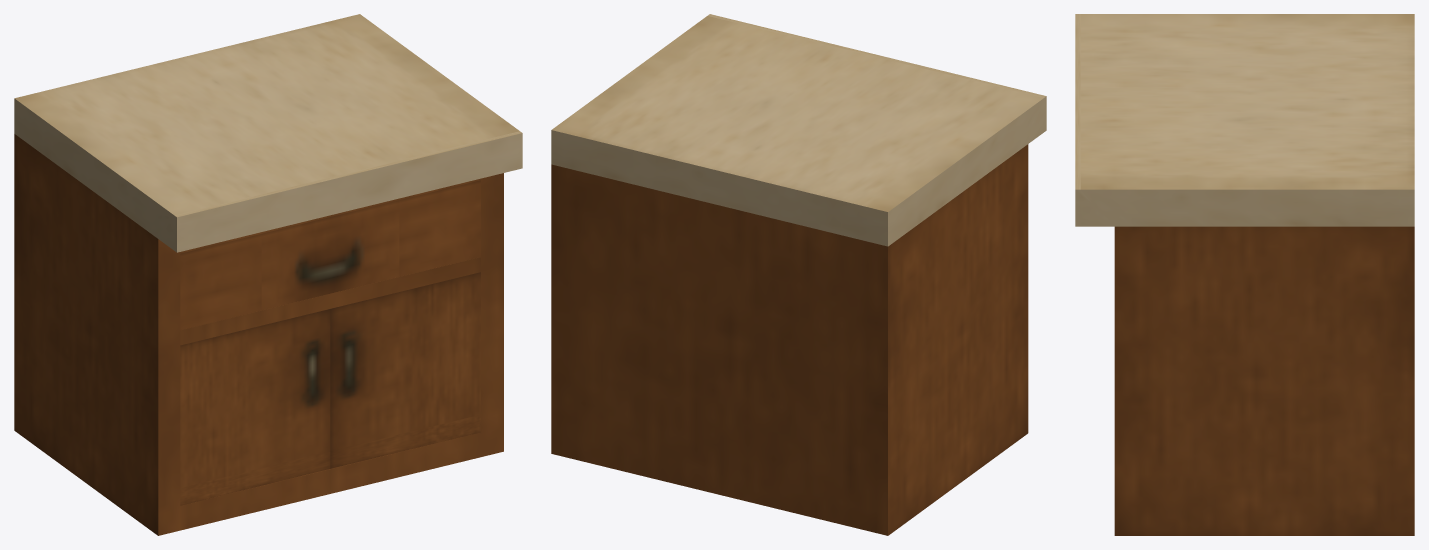
File: KitchenCounter.fbx
3 views of the same model, side by side, from view 1: azimuth 30°, elevation 25°; view 2: azimuth 150°, elevation 25°; view 3: azimuth 270°, elevation 25° (orthographic). The views are drawn at different scales.
Visible parts, largest first — view 1: KitchenCounter, KitchenCounterDoorL, KitchenCounterDoorR, KitchenCounterDrawer; view 2: KitchenCounter; view 3: KitchenCounter.
Boxes of the visible parts, x1,y1,x2,y2 form: KitchenCounter: (14,14,522,535); KitchenCounterDoorL: (180,309,330,505); KitchenCounterDoorR: (330,272,480,468); KitchenCounterDrawer: (180,180,480,330); KitchenCounter: (551,14,1046,535); KitchenCounter: (1075,14,1414,535).
Bounding box in the file's own units: 248 × 202 × 228.
